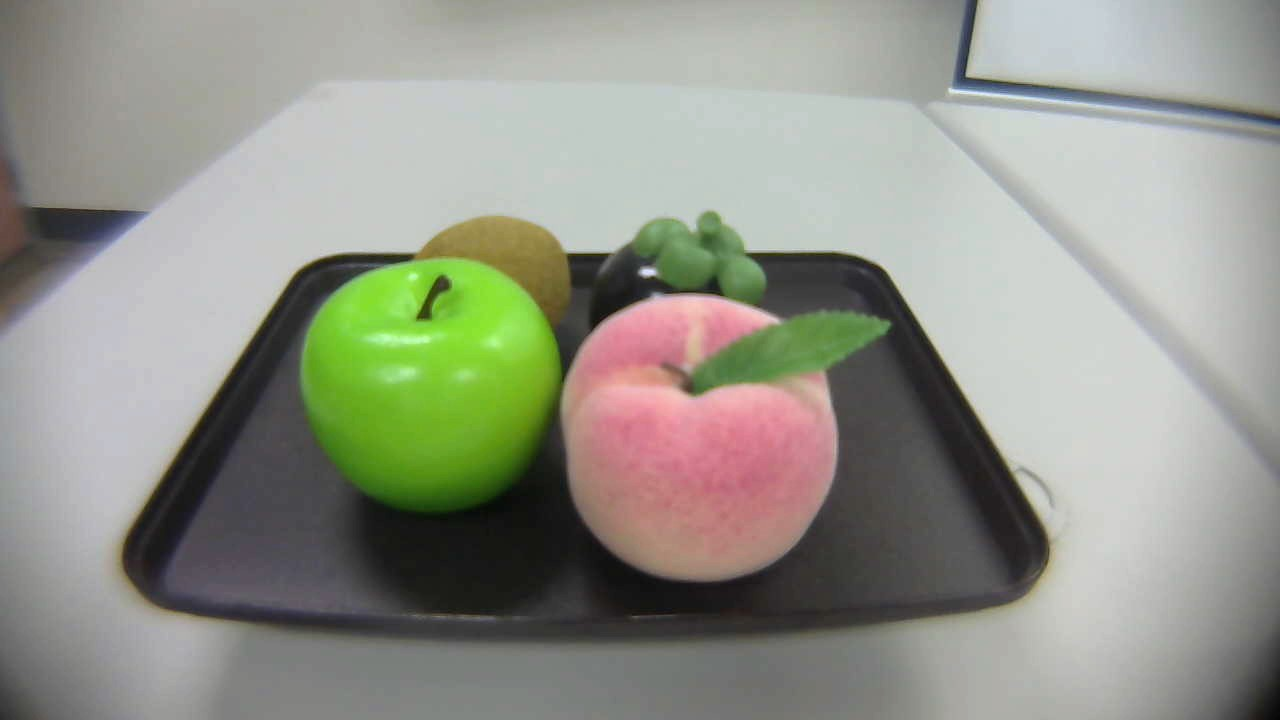green apple: (297, 254, 565, 529)
kiwi fruit: (410, 214, 578, 334)
mangosteen: (588, 214, 771, 324)
peach: (560, 283, 897, 586)
